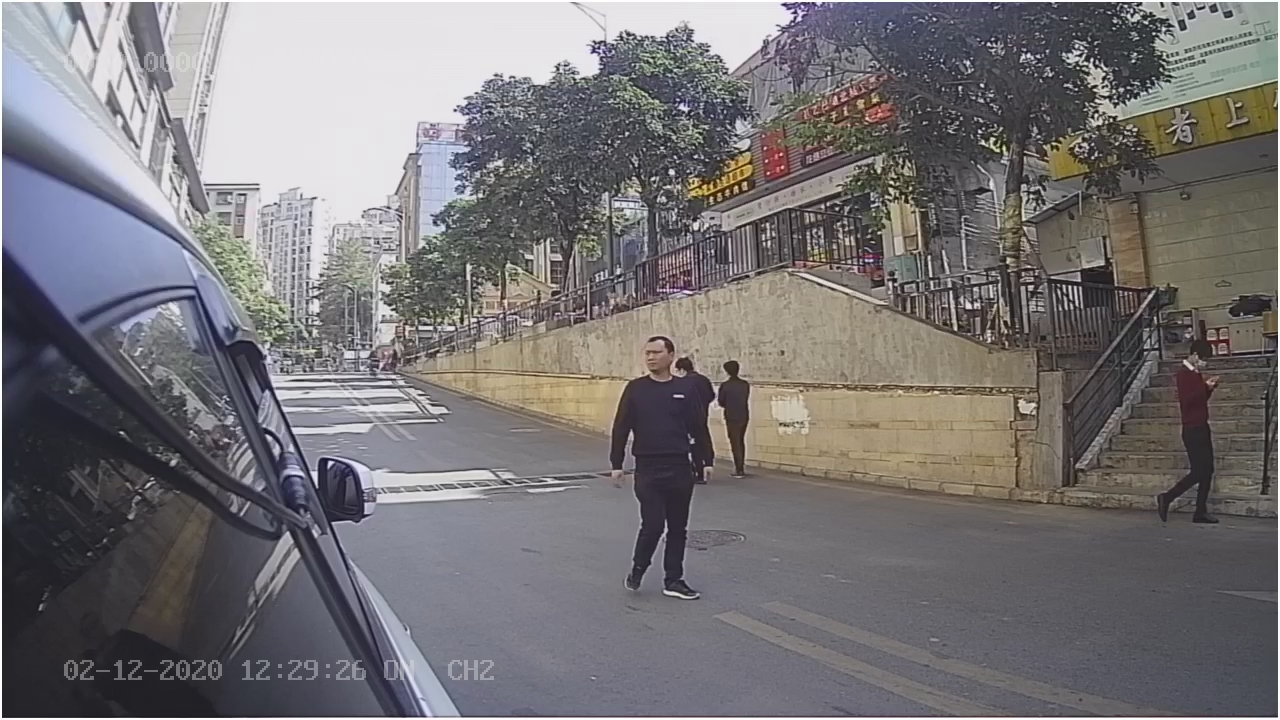person: (608, 331, 717, 604)
